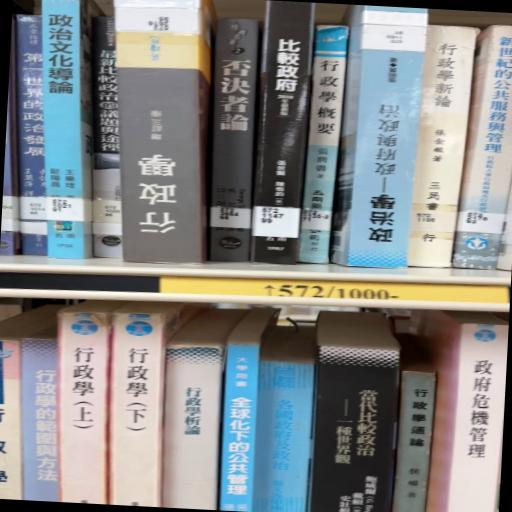reverse: (115, 1, 216, 264), (332, 6, 428, 269)
